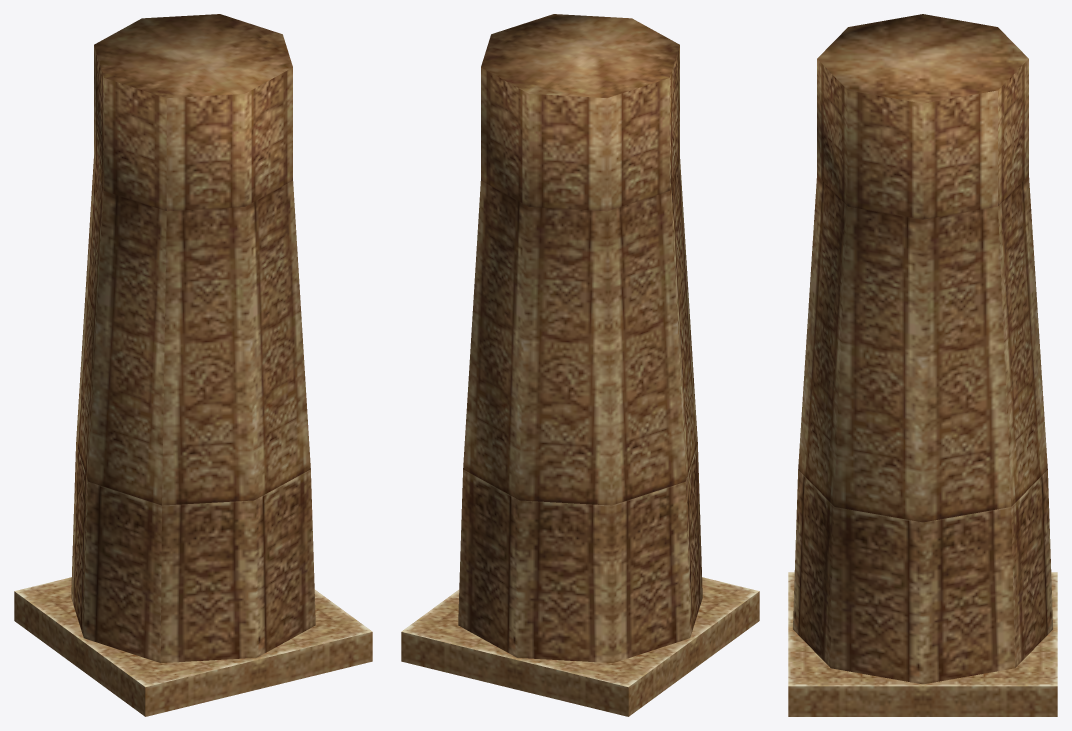
File: general_obj_bigtoewr10.glb
3 renders of one model, left to right at view 1: azimuth 30°, elevation 25°; view 2: azimuth 150°, elevation 25°; view 3: azimuth 270°, elevation 25°, orthographic. The views are drawn at different scales.
Parts seen in each view (by area): view 1: Sphere01; view 2: Sphere01; view 3: Sphere01.
Part boxes in pixels (<box>): Sphere01: <box>14,14,372,716</box>; Sphere01: <box>401,14,759,716</box>; Sphere01: <box>788,14,1057,716</box>.
Size of the model in its own units: 4 by 9.84 by 4.
1 material, 1 textured.
